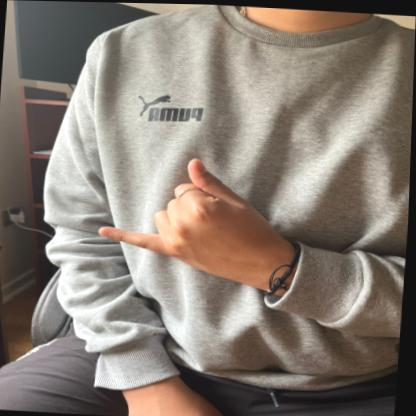J: (95, 150, 284, 279)
